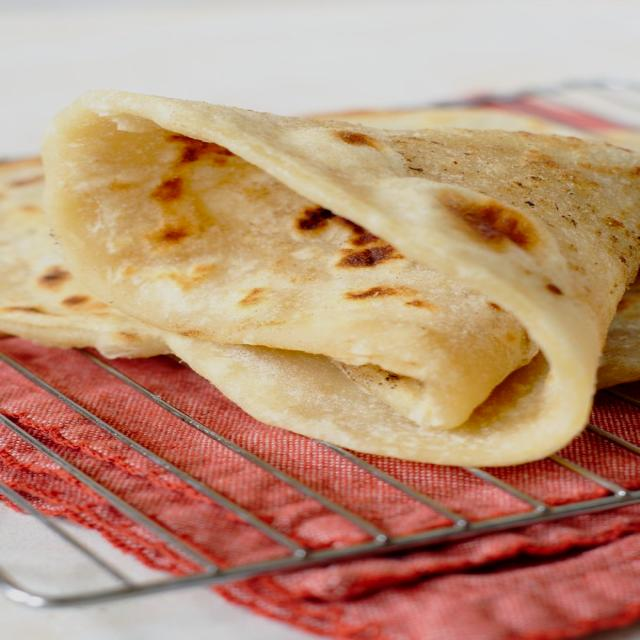chapathi: (7, 97, 638, 473)
